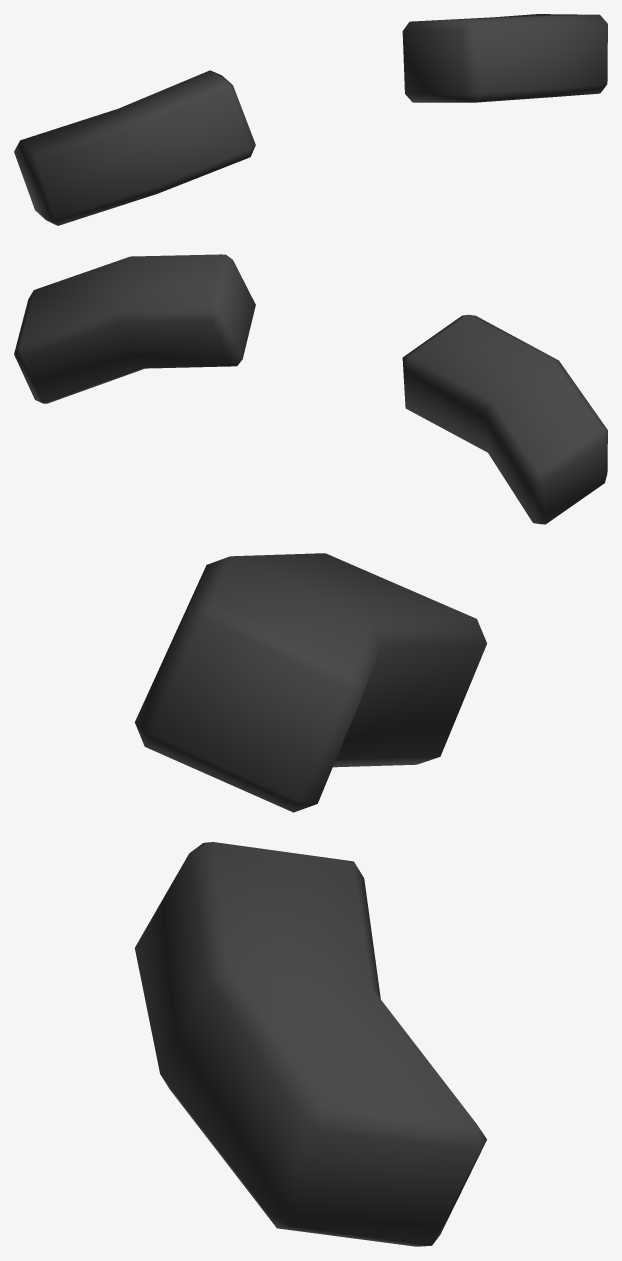
The model's file is Eyebrow_001.glb.
3 views of the same model, one above another, from view 1: azimuth 30°, elevation 25°; view 2: azimuth 150°, elevation 25°; view 3: azimuth 270°, elevation 25° (orthographic). The views are drawn at different scales.
Visible parts, largest first — view 1: Eyebrow_001; view 2: Eyebrow_001; view 3: Eyebrow_001.
Part boxes in pixels (box(x1,y1,x2,y2)): Eyebrow_001: box(14, 14, 607, 225); Eyebrow_001: box(14, 254, 607, 524); Eyebrow_001: box(134, 553, 486, 1246).
Bounding box in the file's own units: 0.2415 × 0.0569 × 0.0639.
Materials: 1 (1 with a texture image).
